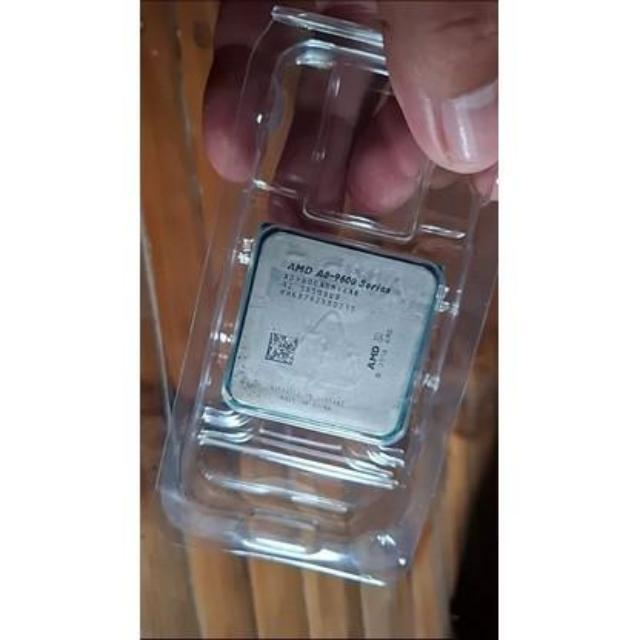CPU: (226, 227, 440, 441)
